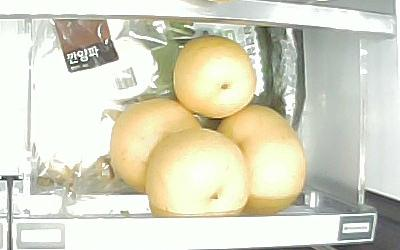pear: (215, 105, 307, 217), (147, 128, 250, 218), (109, 99, 202, 194), (172, 35, 257, 120)
